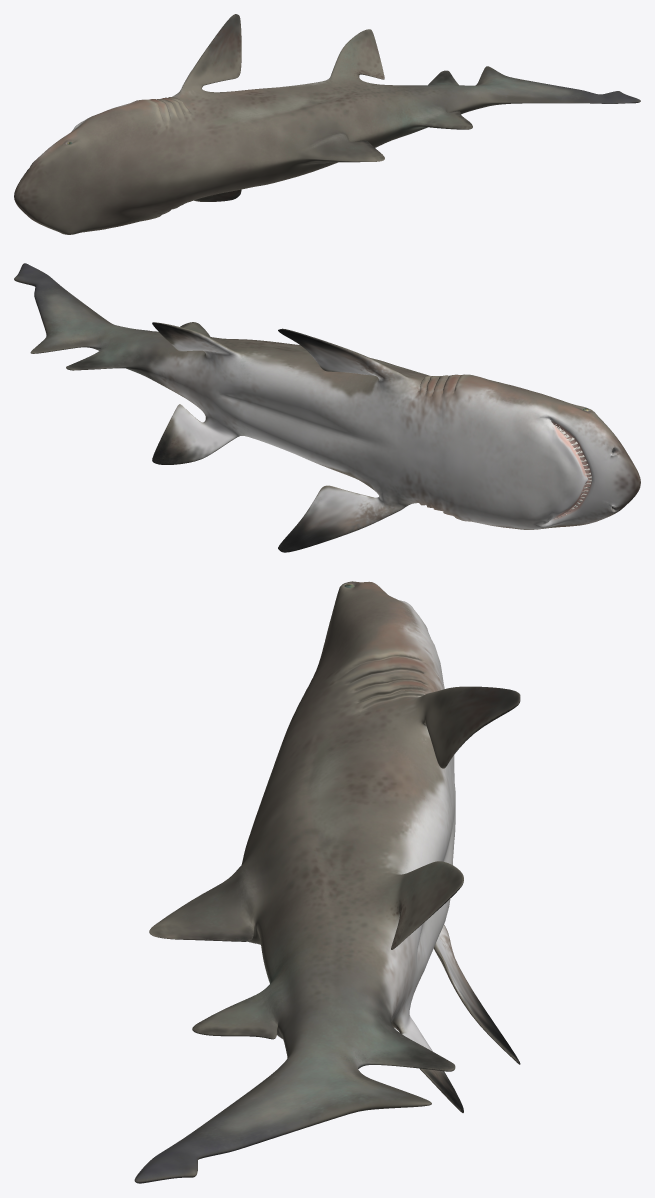
File: SharkV2.obj
The picture shows the model from 3 angles, top to bottom: view 1: azimuth 30°, elevation 25°; view 2: azimuth 150°, elevation 25°; view 3: azimuth 270°, elevation 25°; orthographic projection. The views are drawn at different scales.
Parts seen in each view (by area): view 1: 12960_Shark_v2; view 2: 12960_Shark_v2; view 3: 12960_Shark_v2.
Boxes of the visible parts, <box> form: 12960_Shark_v2: <box>14,14,640,234</box>; 12960_Shark_v2: <box>14,263,640,552</box>; 12960_Shark_v2: <box>134,581,520,1183</box>.
Size of the model in its own units: 247 by 76.73 by 72.64.
1 material, 1 textured.
